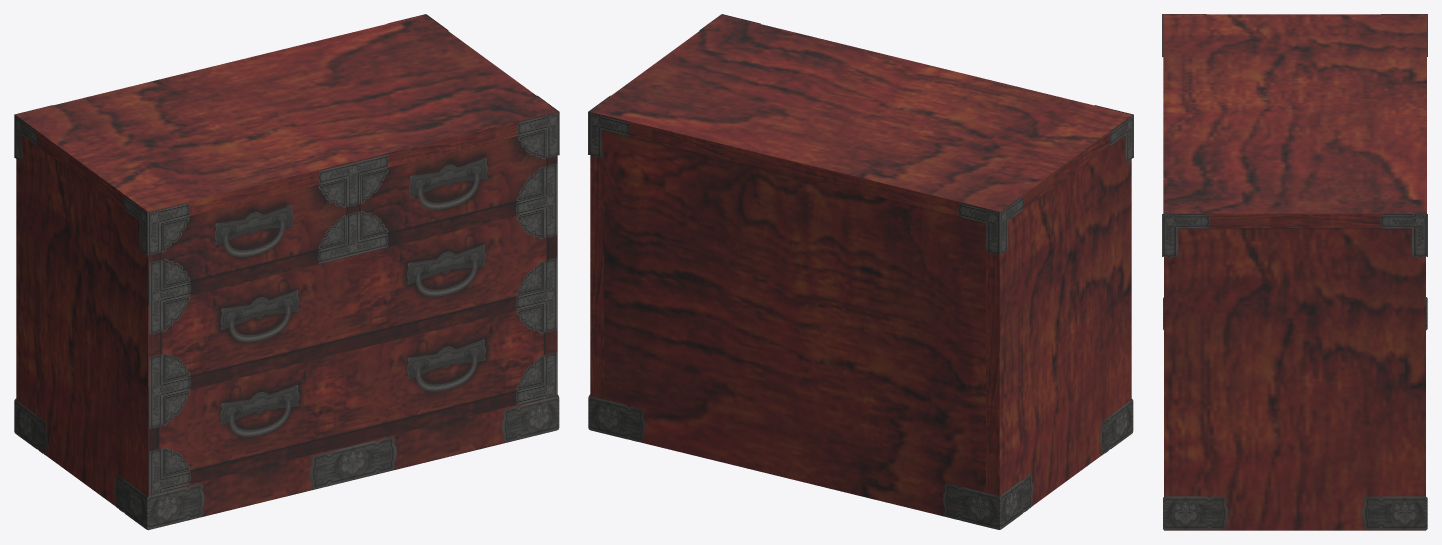
The model's file is Shelf03.fbx.
3 views of the same model, side by side, from view 1: azimuth 30°, elevation 25°; view 2: azimuth 150°, elevation 25°; view 3: azimuth 270°, elevation 25° (orthographic).
Visible parts, largest first — view 1: Shelf03; view 2: Shelf03; view 3: Shelf03.
Part boxes in pixels (left/top/right/bottom): Shelf03: left=14, top=14, right=559, bottom=530; Shelf03: left=588, top=14, right=1133, bottom=529; Shelf03: left=1162, top=14, right=1427, bottom=530.
Size of the model in its own units: 118 by 86.96 by 66.08.
